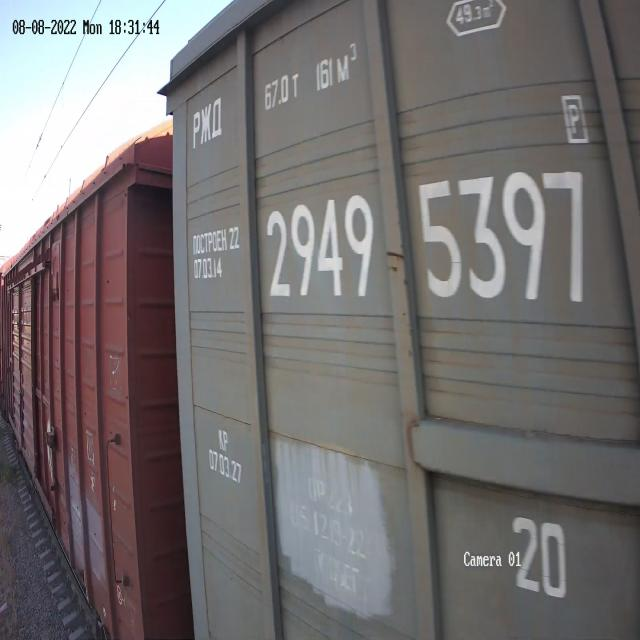boxcar: (149, 0, 640, 640), (0, 108, 175, 640)
